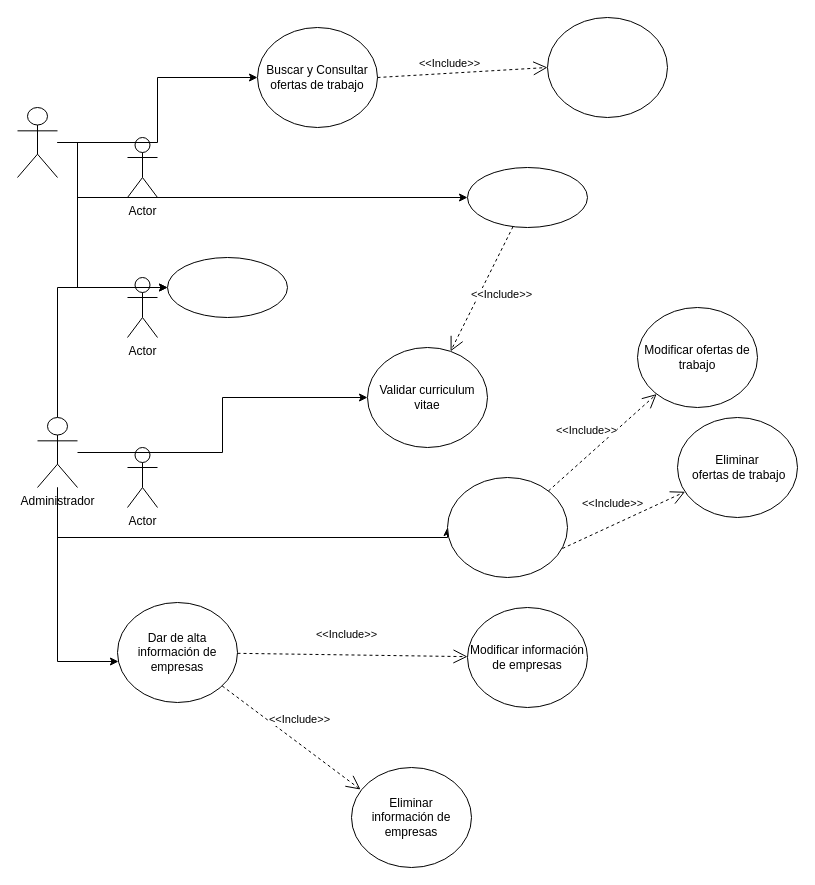
The diagram is 815 pixels wide and 885 high, and some of its shapes have lost their labels. Here are the shapes that lost their labels. From the top down, the box of each, then its label:
(546, 16, 668, 118): Inscribirse en ofertas de trabajo
(16, 106, 58, 178): Alumno
(466, 166, 588, 228): Agregar Curriculum
(166, 256, 288, 318): Iniciar sesion
(446, 476, 568, 578): Dar de alta ofertas de trabajo
